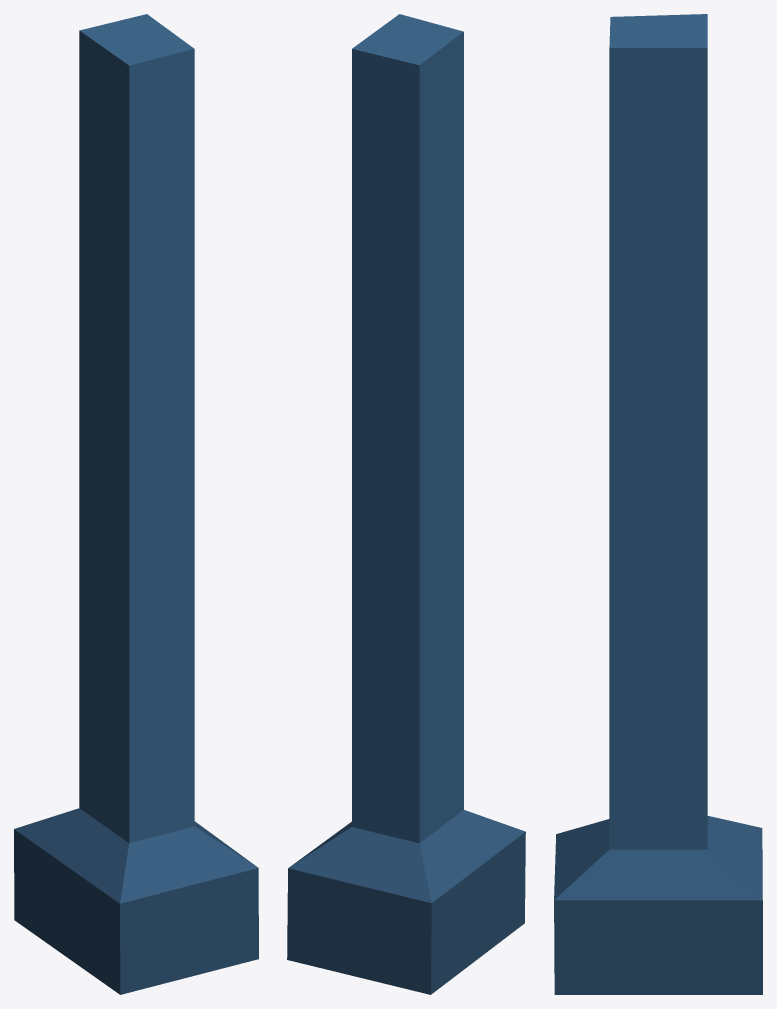
The model's file is Vent_2_C_8.glb.
The picture shows the model from 3 angles, left to right: view 1: azimuth 30°, elevation 25°; view 2: azimuth 150°, elevation 25°; view 3: azimuth 270°, elevation 25°; orthographic projection. The views are drawn at different scales.
Parts seen in each view (by area): view 1: Vent_2_C_8; view 2: Vent_2_C_8; view 3: Vent_2_C_8.
Boxes of the visible parts, x1,y1,x2,y2 form: Vent_2_C_8: (14, 14, 258, 994); Vent_2_C_8: (287, 14, 525, 994); Vent_2_C_8: (554, 14, 762, 994).
Size of the model in its own units: 0.1225 by 0.7328 by 0.1491.
Materials: 1 (1 with a texture image).
